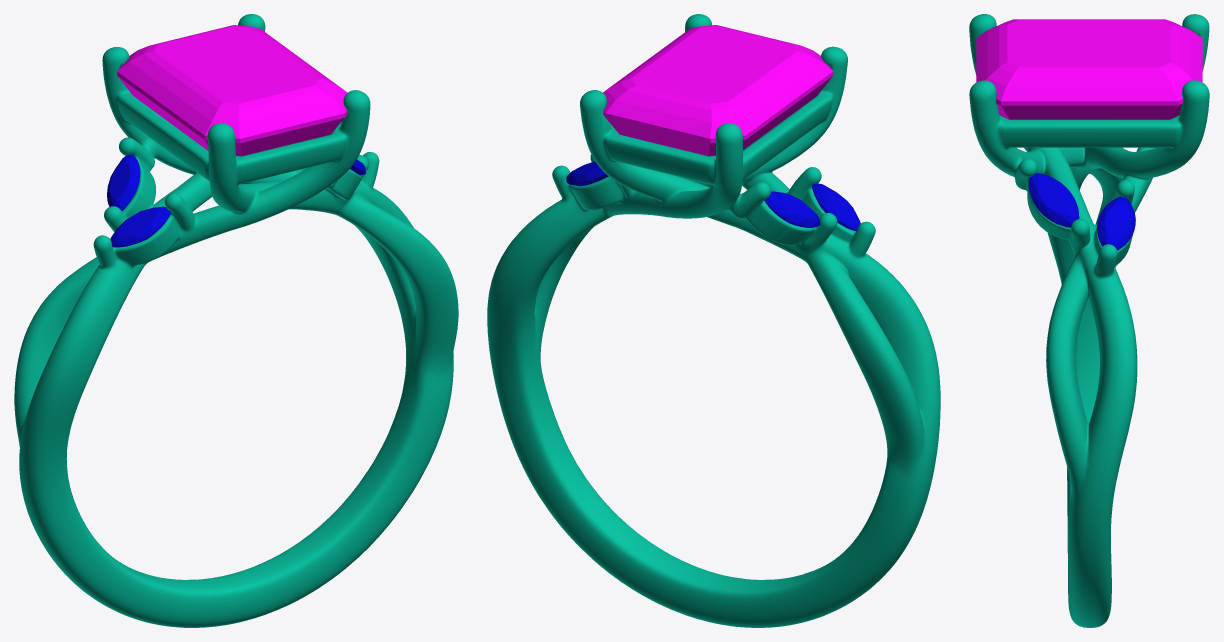
Rendered from BE104_EM_200ct_RENDER.glb.
3 renders of one model, left to right at view 1: azimuth 30°, elevation 25°; view 2: azimuth 150°, elevation 25°; view 3: azimuth 270°, elevation 25°, orthographic.
Parts seen in each view (by area): view 1: Metal 01, CS_Diamond_Emerald, Diamond_Marquise_side.002, Diamond_Marquise_side.003; view 2: Metal 01, CS_Diamond_Emerald, Diamond_Marquise_side.003, Diamond_Marquise_side.002, Diamond_Marquise_side; view 3: Metal 01, CS_Diamond_Emerald, Diamond_Marquise_side.001, Diamond_Marquise_side.
Boxes of the visible parts, bbox=[...] form: Metal 01: bbox=[14, 14, 458, 627]; CS_Diamond_Emerald: bbox=[117, 25, 347, 156]; Diamond_Marquise_side.002: bbox=[110, 206, 171, 247]; Diamond_Marquise_side.003: bbox=[107, 154, 140, 210]; Metal 01: bbox=[487, 14, 940, 627]; CS_Diamond_Emerald: bbox=[603, 25, 833, 156]; Diamond_Marquise_side.003: bbox=[764, 191, 819, 227]; Diamond_Marquise_side.002: bbox=[812, 183, 860, 231]; Diamond_Marquise_side: bbox=[566, 161, 608, 186]; Metal 01: bbox=[969, 14, 1209, 627]; CS_Diamond_Emerald: bbox=[976, 19, 1202, 119]; Diamond_Marquise_side.001: bbox=[1028, 173, 1079, 227]; Diamond_Marquise_side: bbox=[1097, 196, 1135, 250].
Bounding box in the file's own units: 20.15 × 24.58 × 9.55.
